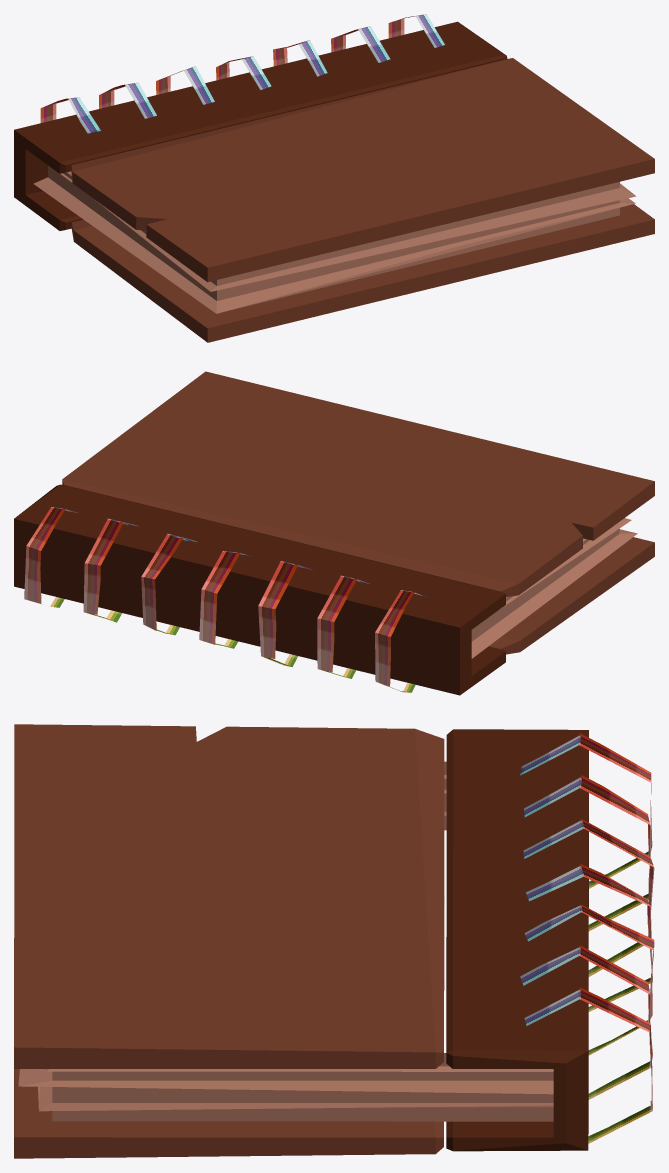
Rendered from SM_Notes.fbx.
3 views of the same model, one above another, from view 1: azimuth 30°, elevation 25°; view 2: azimuth 150°, elevation 25°; view 3: azimuth 270°, elevation 25° (orthographic). The views are drawn at different scales.
Parts seen in each view (by area): view 1: Cube.035; view 2: Cube.035; view 3: Cube.035.
Part boxes in pixels (box(x1,y1,x2,y2)): Cube.035: box(14, 14, 654, 342); Cube.035: box(14, 371, 654, 695); Cube.035: box(14, 724, 654, 1158).
Size of the model in its own units: 57.86 by 13.03 by 48.44.
